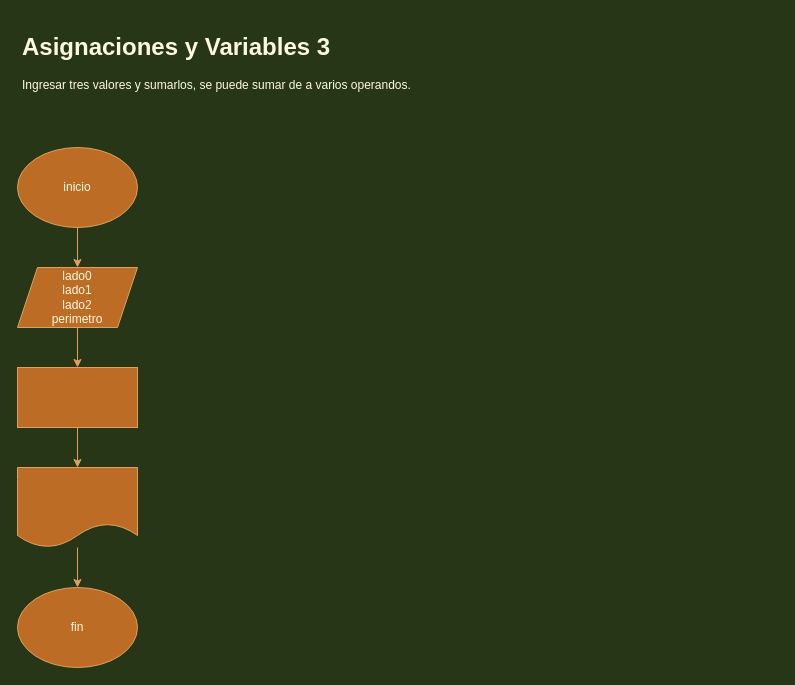
Image size: 795x685. Some labels were removed from this diagram. The box of each missing label's shape, as (x1, y1, x2, y2) in pixels:
El perímetro del trángulo descripto es (perimetro): (16, 466, 138, 548)
perimetro = lado0 + lado1 + lado2: (16, 366, 138, 428)
